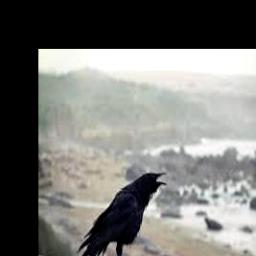Crow: (77, 170, 168, 256)
